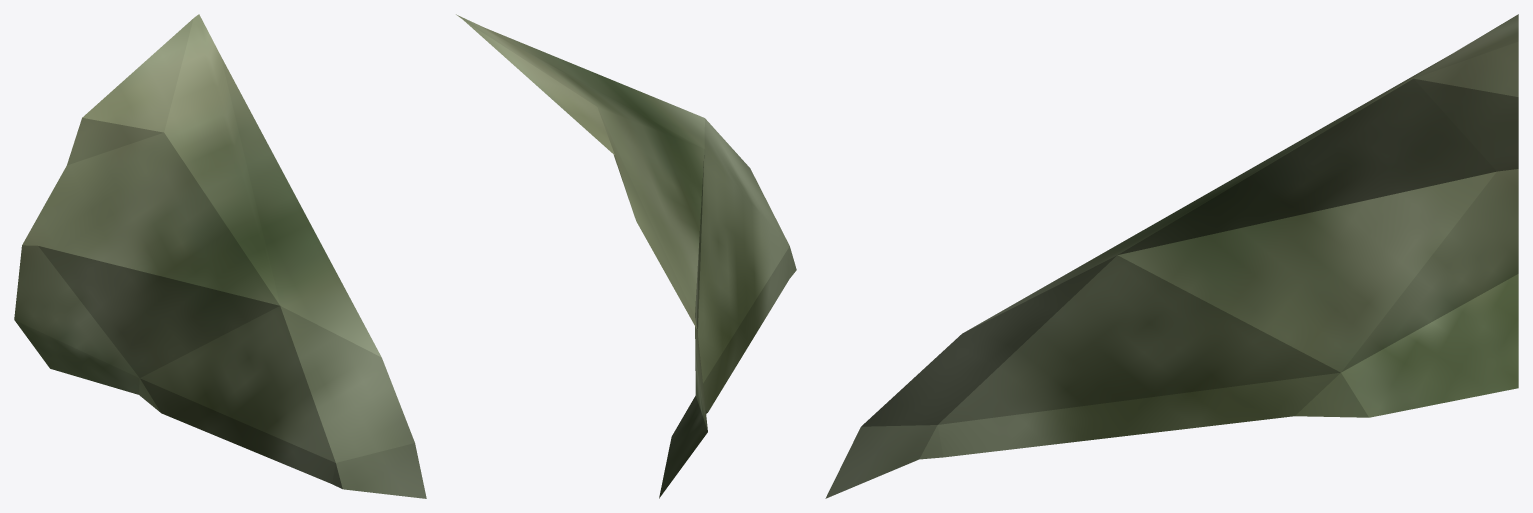
The picture shows the model from 3 angles, left to right: view 1: azimuth 30°, elevation 25°; view 2: azimuth 150°, elevation 25°; view 3: azimuth 270°, elevation 25°; orthographic projection. The views are drawn at different scales.
Size of the model in its own units: 0.1383 by 0.2275 by 0.2948.
1 material, 1 textured.
